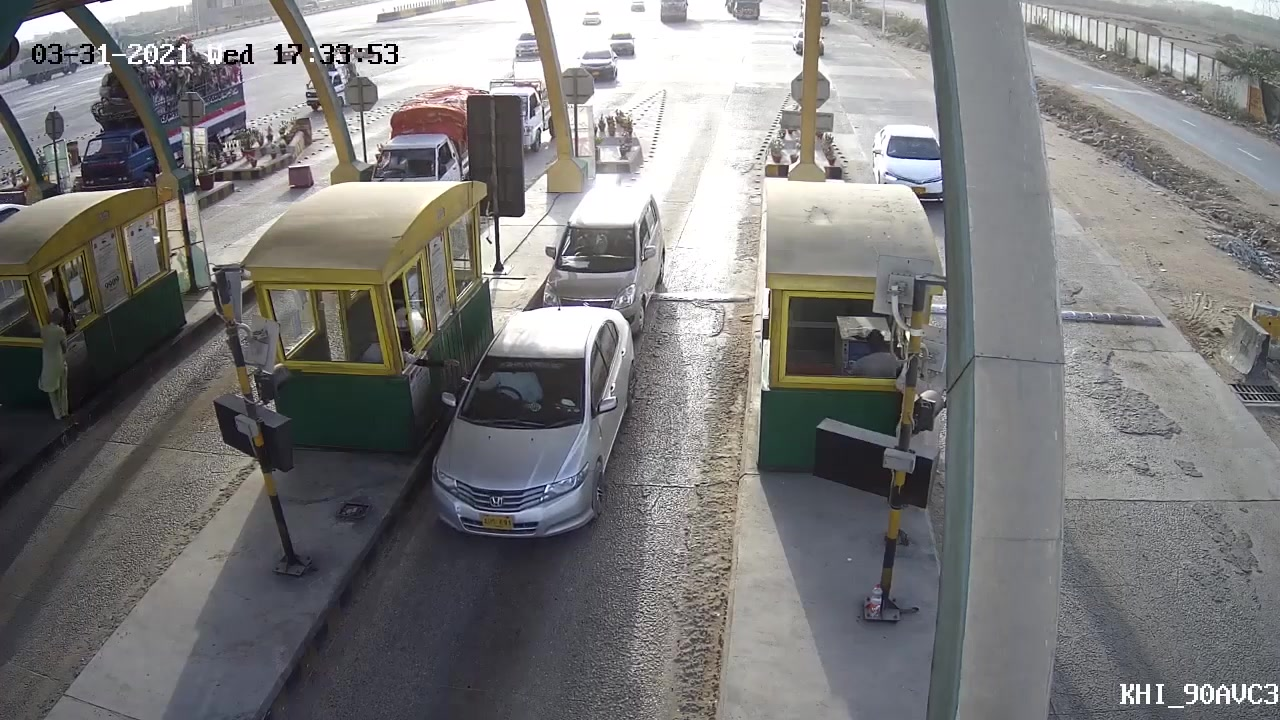F1: (430, 304, 622, 549)
